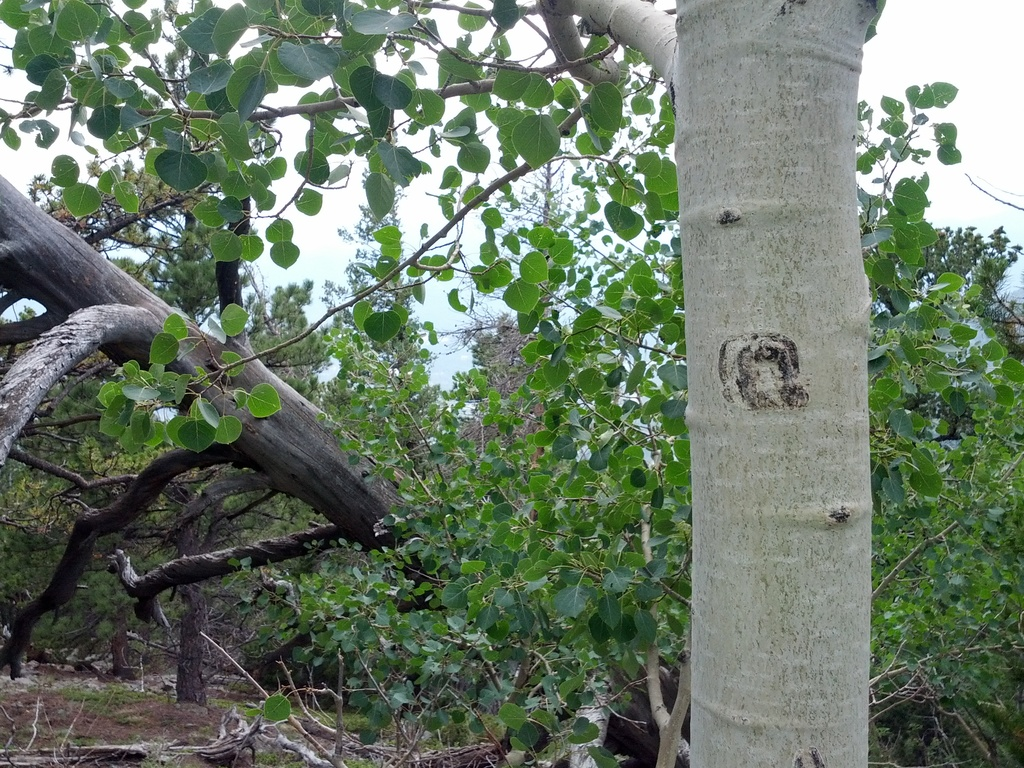Tree: (0, 0, 878, 767), (0, 0, 250, 682), (839, 220, 1023, 524), (313, 113, 448, 491), (458, 127, 588, 463), (423, 315, 599, 521)
